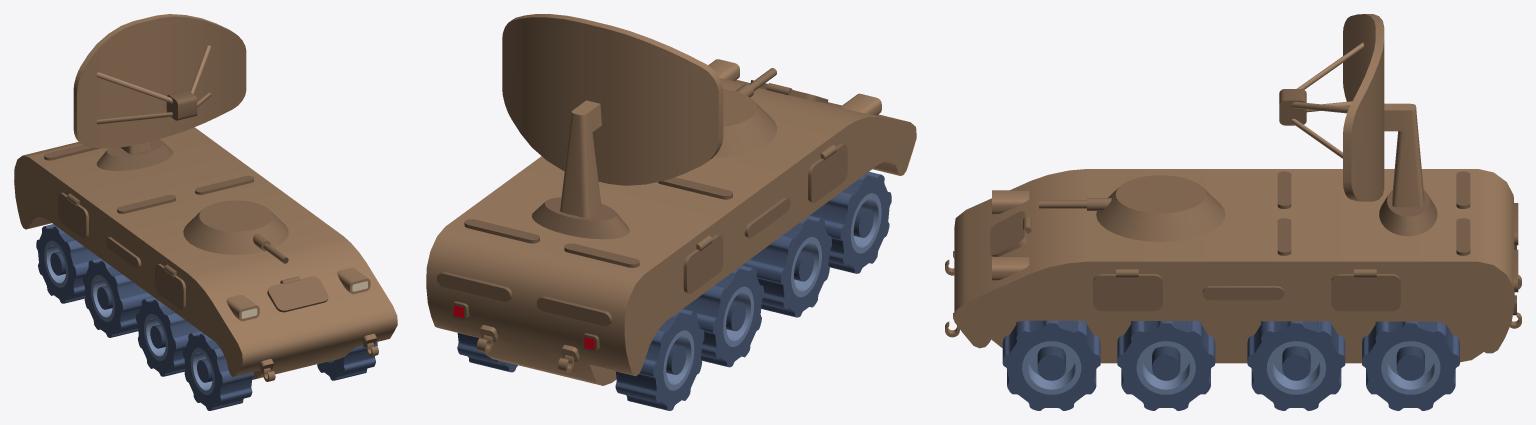
Rendered from Armored Сarrier.fbx.
3 views of the same model, side by side, from view 1: azimuth 30°, elevation 25°; view 2: azimuth 150°, elevation 25°; view 3: azimuth 270°, elevation 25° (orthographic). The views are drawn at different scales.
Visible parts, largest first — view 1: Armored Сarrier, Cylinder.002, Cylinder.001, Tractor Wheel.009, Tractor Wheel.011, Tractor Wheel.015, Tractor Wheel.017, Tractor Wheel.007; view 2: Armored Сarrier, Cylinder.002, Tractor Wheel.017, Tractor Wheel.015, Tractor Wheel.011, Tractor Wheel.009, Cylinder.001; view 3: Armored Сarrier, Cylinder.002, Tractor Wheel.007, Tractor Wheel.009, Tractor Wheel.008, Tractor Wheel.017, Cylinder.001.
Boxes of the visible parts, bbox=[...] form: Armored Сarrier: bbox=[14, 127, 397, 381]; Cylinder.002: bbox=[73, 14, 246, 170]; Cylinder.001: bbox=[183, 200, 288, 263]; Tractor Wheel.009: bbox=[83, 258, 152, 337]; Tractor Wheel.011: bbox=[182, 331, 253, 410]; Tractor Wheel.015: bbox=[136, 297, 199, 376]; Tractor Wheel.017: bbox=[36, 224, 99, 303]; Tractor Wheel.007: bbox=[317, 342, 377, 380]; Armored Сarrier: bbox=[426, 59, 916, 385]; Cylinder.002: bbox=[502, 14, 723, 239]; Tractor Wheel.017: bbox=[457, 309, 704, 410]; Tractor Wheel.015: bbox=[742, 215, 831, 317]; Tractor Wheel.011: bbox=[810, 171, 891, 273]; Tractor Wheel.009: bbox=[683, 265, 764, 367]; Cylinder.001: bbox=[713, 68, 777, 157]; Armored Сarrier: bbox=[945, 169, 1521, 363]; Cylinder.002: bbox=[1279, 14, 1437, 236]; Tractor Wheel.007: bbox=[1002, 320, 1100, 410]; Tractor Wheel.009: bbox=[1247, 321, 1345, 410]; Tractor Wheel.008: bbox=[1117, 321, 1215, 410]; Tractor Wheel.017: bbox=[1362, 321, 1459, 410]; Cylinder.001: bbox=[1039, 175, 1225, 241].
Bounding box in the file's own units: 3.88 × 5.92 × 9.34.
